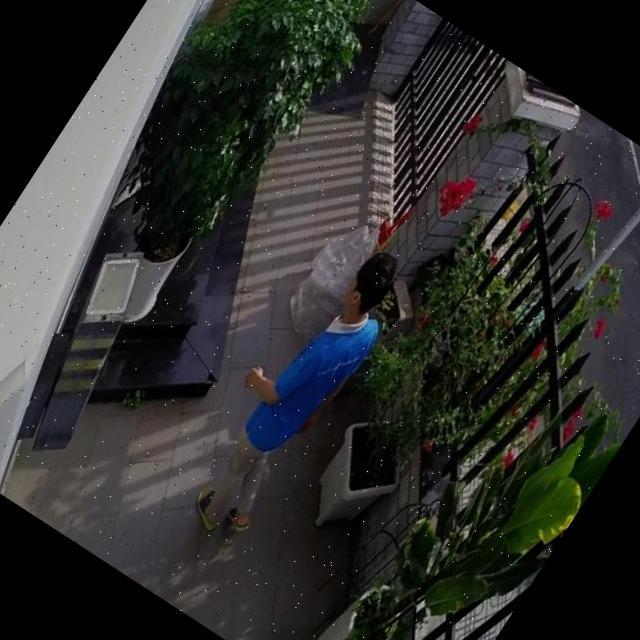person: (166, 226, 421, 552)
